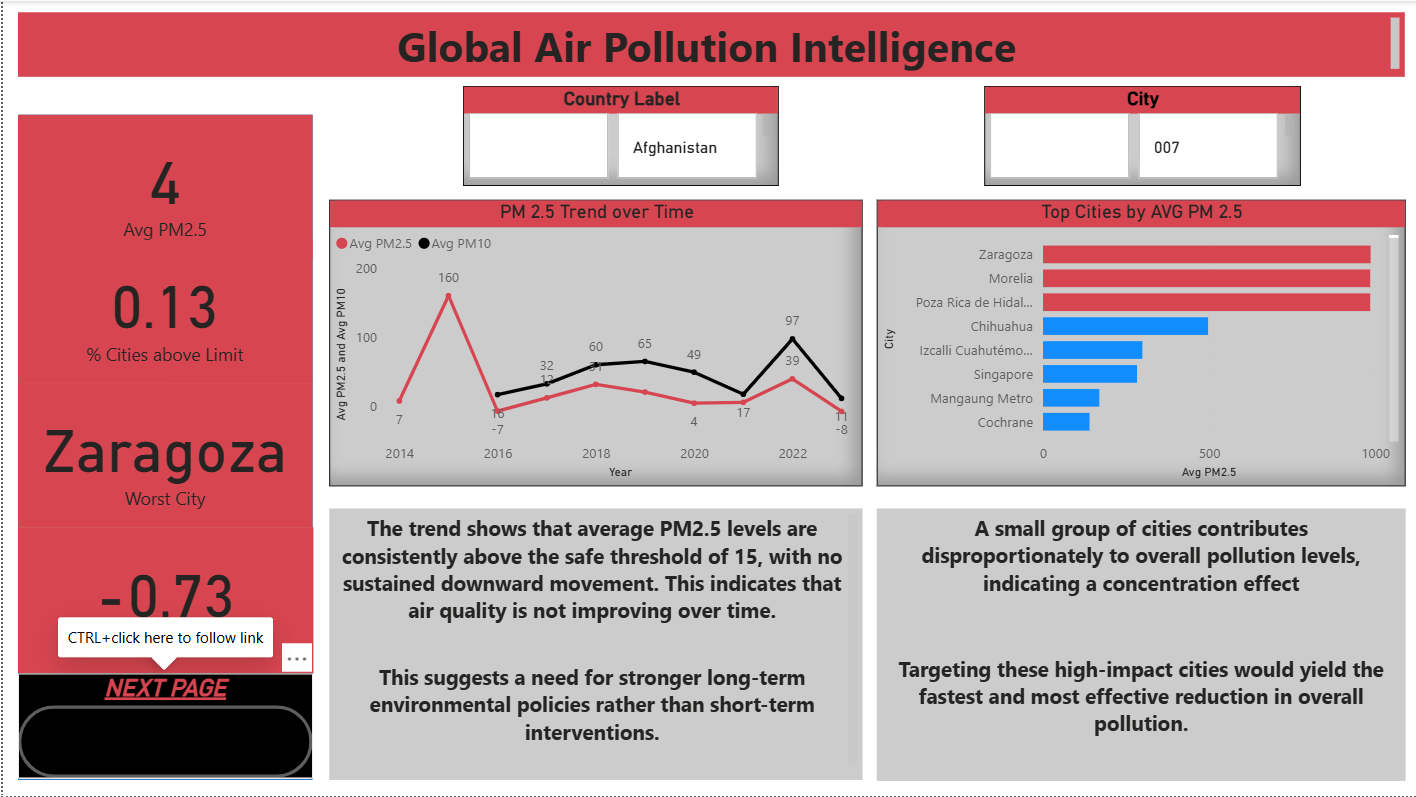

The page's visual inventory and layout, read from the dashboard file:
{"tool":"powerbi","page":{"name":"Page 1","canvas":[1280,720],"ordinal":0},"visuals":[{"type":"textbox","box":[19.4,0,1244.8,62.7],"z":0},{"type":"cardVisual","fields":{"Data":["world_air_quality_with_locations.Avg PM2_5"]},"box":[20,63.3,183.3,133.3],"z":1},{"type":"cardVisual","fields":{"Data":["world_air_quality_with_locations.Measurements Count"]},"box":[523.1,63.5,180.8,132.7],"z":2},{"type":"cardVisual","fields":{"Data":["world_air_quality_with_locations.Most Polluted City"]},"box":[782.4,64.7,335.3,133.3],"z":3},{"type":"cardVisual","fields":{"Data":["world_air_quality_with_locations.Max PM2_5"]},"box":[252.9,62.7,196.1,133.3],"z":4},{"type":"lineChart","title":"PM2.5 TREND OVER TIME","fields":{"Category":["world_air_quality_with_locations.Last Updated.Variation.Date Hierarchy.Year","world_air_quality_with_locations.Last Updated.Variation.Date Hierarchy.Quarter","world_air_quality_with_locations.Last Updated.Variation.Date Hierarchy.Month","world_air_quality_with_locations.Last Updated.Variation.Date Hierarchy.Day"],"Y":["world_air_quality_with_locations.Avg PM2_5"]},"box":[18.9,209.4,345.3,228.3],"z":5},{"type":"barChart","title":"TOP CITIES BY PM2.5","fields":{"Y":["world_air_quality_with_locations.Avg PM2_5"],"Category":["world_air_quality_with_locations.City"]},"box":[18.9,454.7,345.3,230.2],"z":6},{"type":"columnChart","title":"COUNTRY VS AVG PM2.5","fields":{"Category":["world_air_quality_with_locations.Country Label"],"Y":["world_air_quality_with_locations.Avg PM2_5"]},"box":[377.4,207.5,326.4,230.2],"z":7},{"type":"donutChart","title":"POLLUTANT DISTRIBUTION","fields":{"Y":["world_air_quality_with_locations.Avg Pollutant Value"]},"box":[377.4,456.6,326.4,230.2],"z":8},{"type":"columnChart","fields":{"Category":["world_air_quality_with_locations.City"],"Y":["world_air_quality_with_locations.Measurements Count"]},"box":[724.5,454.7,334,230.2],"z":9},{"type":"scatterChart","fields":{"X":["world_air_quality_with_locations.Avg PM2_5"],"Y":["world_air_quality_with_locations.Avg PM10"],"Category":["world_air_quality_with_locations.City"]},"box":[722.6,209.4,335.8,230.2],"z":10},{"type":"slicer","title":"Last Updated","fields":{"Values":["world_air_quality_with_locations.Last Updated"]},"box":[1081.1,569.8,160.4,109.4],"z":11},{"type":"slicer","title":"Pollutant","fields":{"Values":["world_air_quality_with_locations.Pollutant"]},"box":[1081.1,454.7,160.4,94.3],"z":12},{"type":"slicer","title":"Country","fields":{"Values":["world_air_quality_with_locations.Country Label"]},"box":[1075.5,341.5,166,98.1],"z":13},{"type":"slicer","title":"City","fields":{"Values":["world_air_quality_with_locations.City"]},"box":[1075.5,213.2,166,109.4],"z":14}]}

Visuals, with their boxes in screenshot pixels (x1, y1, x2, y2), scaled from the page's 1280x720 canvas onto the 1416x797 screenshot:
textbox: [21, 0, 1399, 69]
cardVisual - world_air_quality_with_locations.Avg PM2_5: [22, 70, 225, 218]
cardVisual - world_air_quality_with_locations.Measurements Count: [579, 70, 779, 217]
cardVisual - world_air_quality_with_locations.Most Polluted City: [866, 72, 1236, 219]
cardVisual - world_air_quality_with_locations.Max PM2_5: [280, 69, 497, 217]
"PM2.5 TREND OVER TIME" lineChart: [21, 232, 403, 485]
"TOP CITIES BY PM2.5" barChart: [21, 503, 403, 758]
"COUNTRY VS AVG PM2.5" columnChart: [417, 230, 779, 485]
"POLLUTANT DISTRIBUTION" donutChart: [417, 505, 779, 760]
columnChart - world_air_quality_with_locations.City x world_air_quality_with_locations.Measurements Count: [801, 503, 1171, 758]
scatterChart - world_air_quality_with_locations.Avg PM2_5 x world_air_quality_with_locations.Avg PM10: [799, 232, 1171, 487]
"Last Updated" slicer: [1196, 631, 1373, 752]
"Pollutant" slicer: [1196, 503, 1373, 608]
"Country" slicer: [1190, 378, 1373, 487]
"City" slicer: [1190, 236, 1373, 357]
